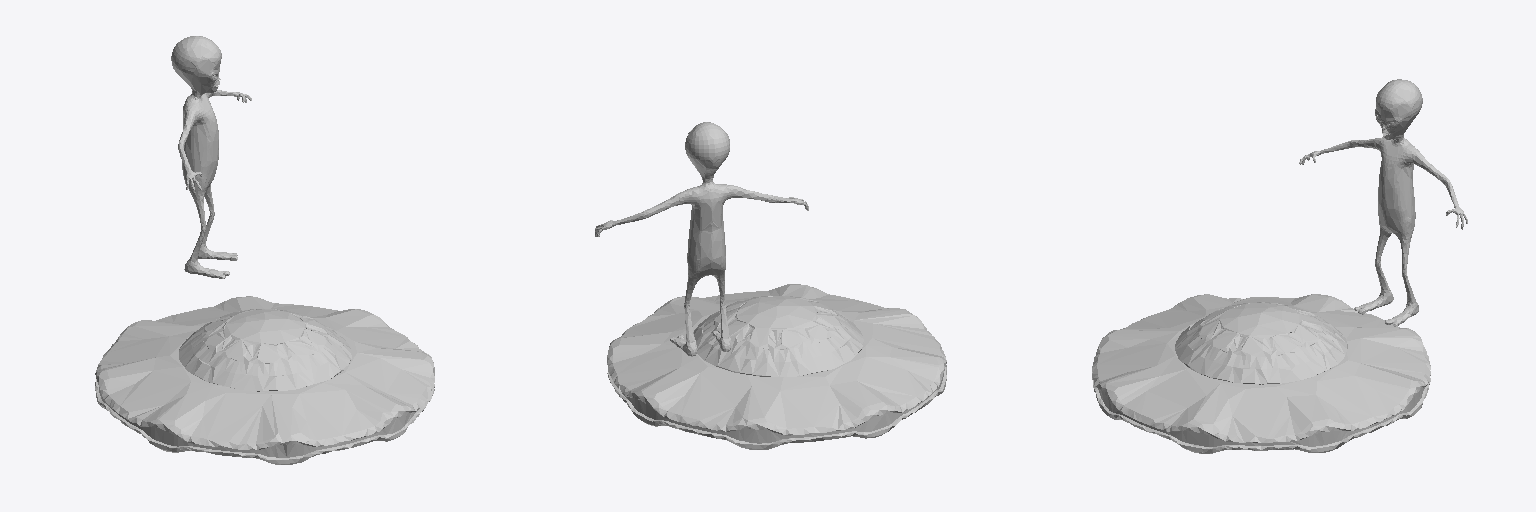
The model's file is frame_006.obj.
3 views of the same model, side by side, from view 1: azimuth 30°, elevation 25°; view 2: azimuth 150°, elevation 25°; view 3: azimuth 270°, elevation 25° (orthographic).
Visible parts, largest first — view 1: 13884_UFO_Saucer_v1_l2, 10469_GrayAlien_v01; view 2: 13884_UFO_Saucer_v1_l2, 10469_GrayAlien_v01; view 3: 13884_UFO_Saucer_v1_l2, 10469_GrayAlien_v01.
Boxes of the visible parts, <box> form: 13884_UFO_Saucer_v1_l2: <box>95,296,434,464</box>; 10469_GrayAlien_v01: <box>171,36,251,278</box>; 13884_UFO_Saucer_v1_l2: <box>607,284,946,449</box>; 10469_GrayAlien_v01: <box>595,122,808,356</box>; 13884_UFO_Saucer_v1_l2: <box>1092,294,1430,453</box>; 10469_GrayAlien_v01: <box>1299,79,1467,326</box>.
Bounding box in the file's own units: 12.69 × 14.45 × 14.09.